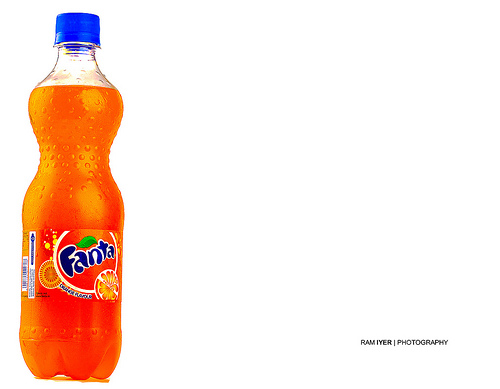fanta: (28, 15, 117, 380)
